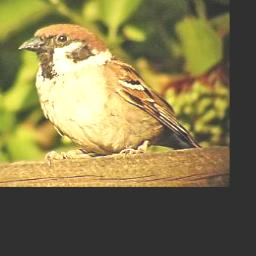Sparrow: (15, 22, 201, 166)
